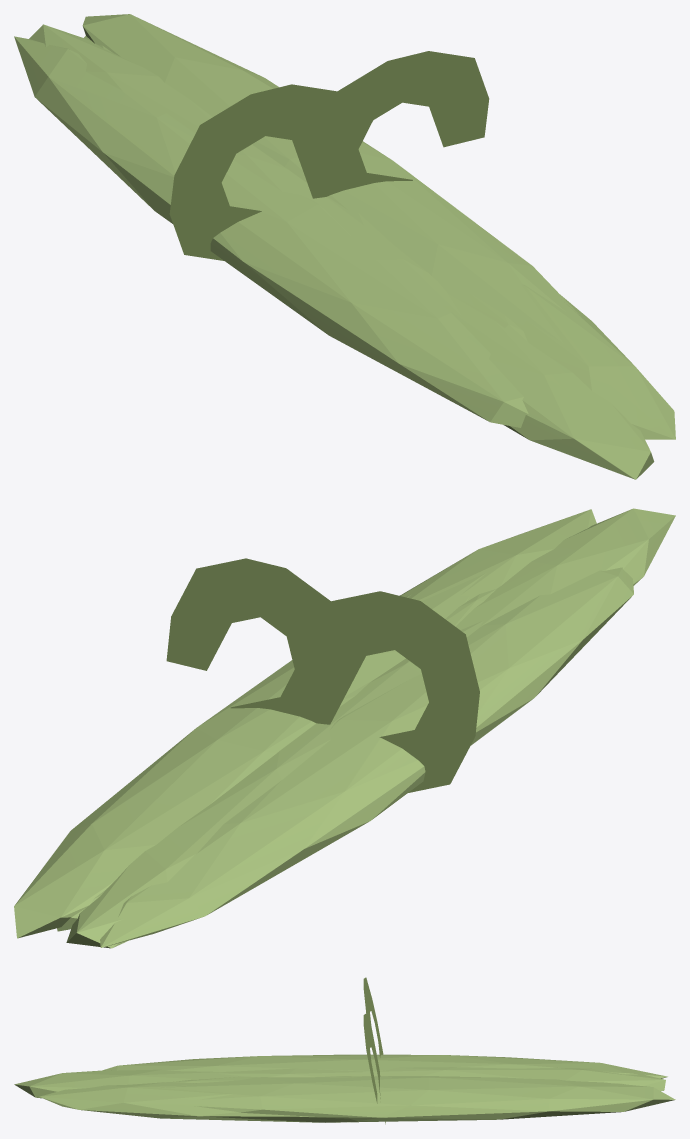
The model's file is nephrolepis-brownii.glb.
3 views of the same model, one above another, from view 1: azimuth 30°, elevation 25°; view 2: azimuth 150°, elevation 25°; view 3: azimuth 270°, elevation 25° (orthographic). The views are drawn at different scales.
Visible parts, largest first — view 1: frond3, frond0, fiddle-1, frond2, fiddle1, frond4, frond1, frond6; view 2: frond3, frond0, fiddle1, fiddle-1, frond4, frond2, frond1, frond6; view 3: frond0, frond3, frond1, frond4, frond2, fiddle-1, fiddle1, frond6.
Boxes of the visible parts, x1,y1,x2,y2 form: frond3: (14, 36, 528, 427); frond0: (82, 14, 580, 344); fiddle-1: (169, 84, 350, 260); frond2: (447, 292, 654, 479); fiddle1: (306, 51, 489, 198); frond4: (29, 24, 461, 315); frond1: (513, 284, 675, 439); frond6: (84, 36, 527, 341); frond3: (100, 567, 633, 947); frond0: (14, 573, 485, 938); fiddle1: (166, 558, 345, 724); fiddle-1: (304, 591, 479, 792); frond4: (66, 620, 483, 948); frond2: (455, 508, 675, 630); frond1: (400, 509, 596, 601); frond6: (57, 589, 496, 931); frond0: (158, 1076, 675, 1122); frond3: (102, 1054, 667, 1078); frond1: (39, 1082, 367, 1122); frond4: (215, 1067, 665, 1090); frond2: (14, 1069, 244, 1098); fiddle-1: (363, 977, 383, 1067); fiddle1: (363, 1013, 385, 1124); frond6: (173, 1076, 625, 1084).
Size of the model in its own units: 0.184 by 0.1057 by 0.6184.
